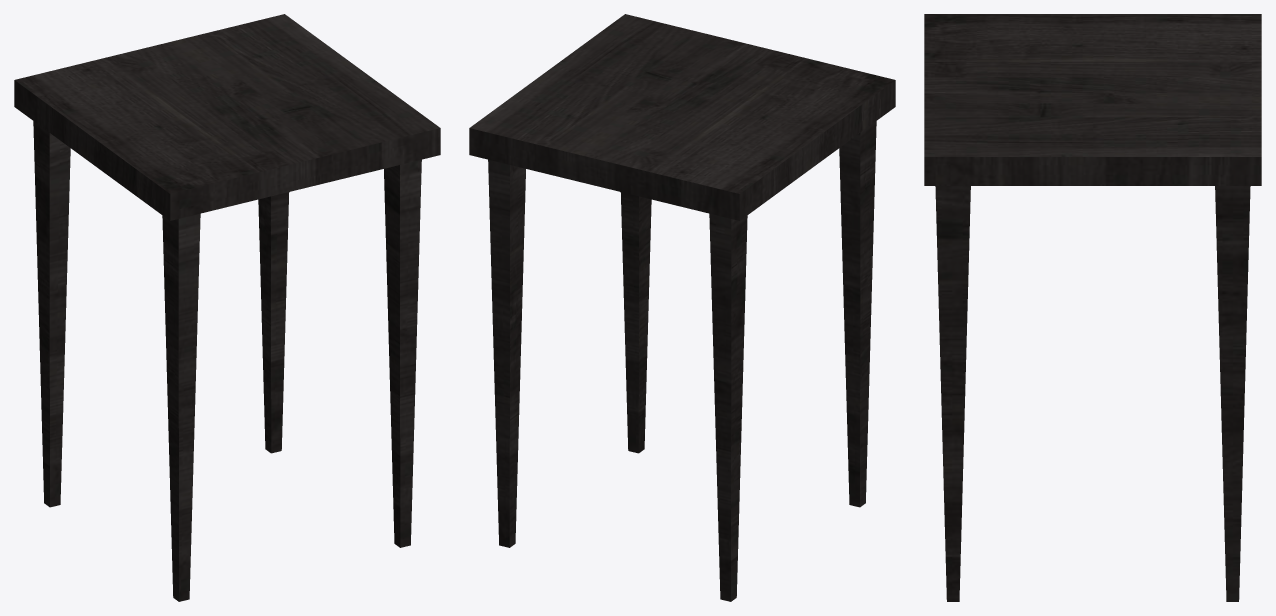
Rendered from nightStand.fbx.
The picture shows the model from 3 angles, left to right: view 1: azimuth 30°, elevation 25°; view 2: azimuth 150°, elevation 25°; view 3: azimuth 270°, elevation 25°; orthographic projection. The views are drawn at different scales.
Parts seen in each view (by area): view 1: Cube; view 2: Cube; view 3: Cube.
Part boxes in pixels (box(x1,y1,x2,y2)): Cube: box(14, 14, 440, 601); Cube: box(469, 14, 895, 601); Cube: box(924, 14, 1261, 601).
Bounding box in the file's own units: 338 × 502 × 337.
